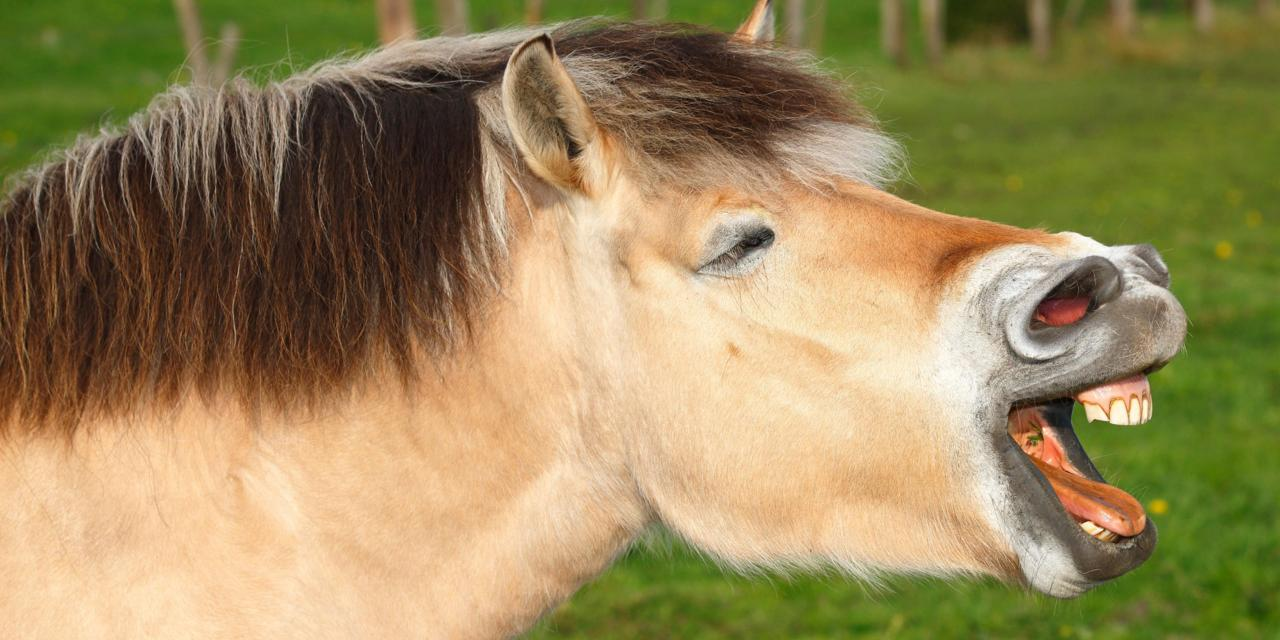horse: (3, 24, 1188, 640)
